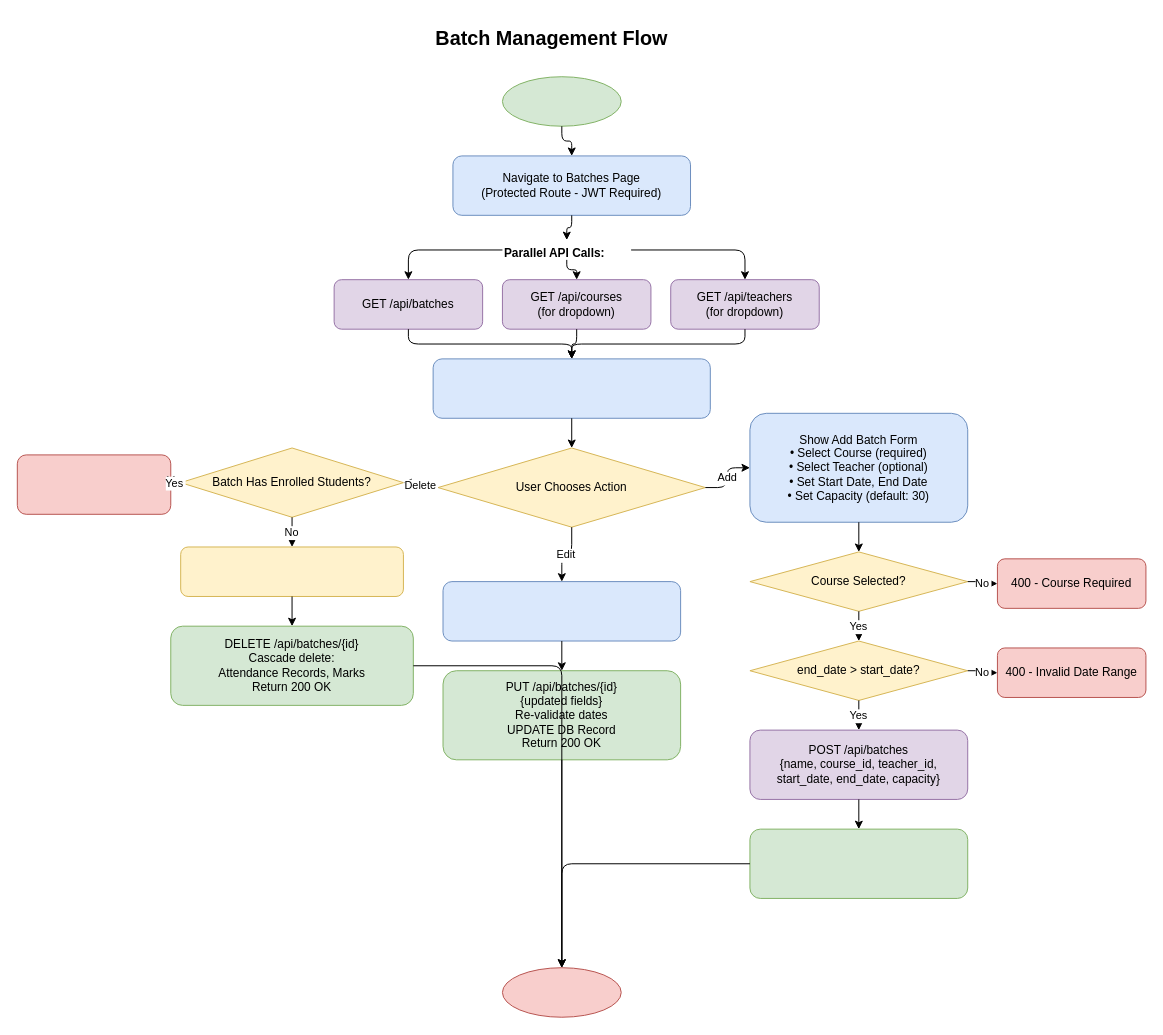
This 1163x1035 diagram has some shape labels left out. Here are the shapes that lost their labels. From the top down, the box of each, then its label:
(501, 76, 621, 126): START
(432, 358, 710, 418): Display Batch List (Name, Course, Teacher, Dates, Capacity)
(16, 454, 171, 514): 400 - Cannot Delete Batch has enrolled Students
(180, 546, 403, 596): Show Confirmation Dialog
(442, 581, 681, 641): Pre-fill Edit Form (Course, Teacher, Dates, Capacity)
(749, 828, 968, 898): INSERT DB Record Return 201 Created Show Success Toast
(501, 967, 621, 1017): END
